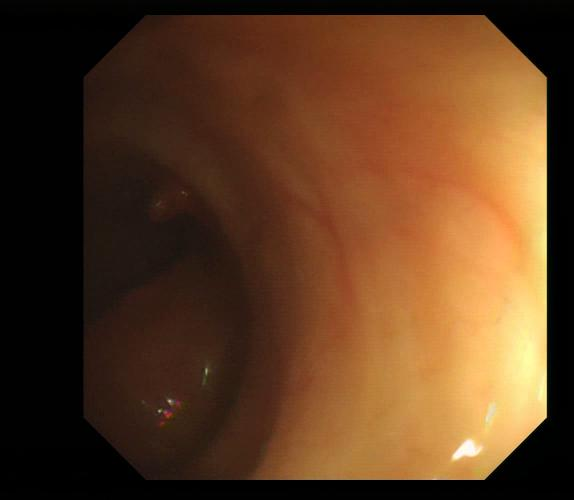polyp: (145, 177, 199, 221)
